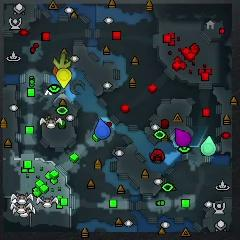p1: (94, 118, 111, 139)
p2: (201, 136, 216, 156)
p3: (175, 128, 191, 147)
p4: (57, 68, 71, 88)
p5: (53, 65, 58, 76)
x2: (54, 53, 71, 69)
